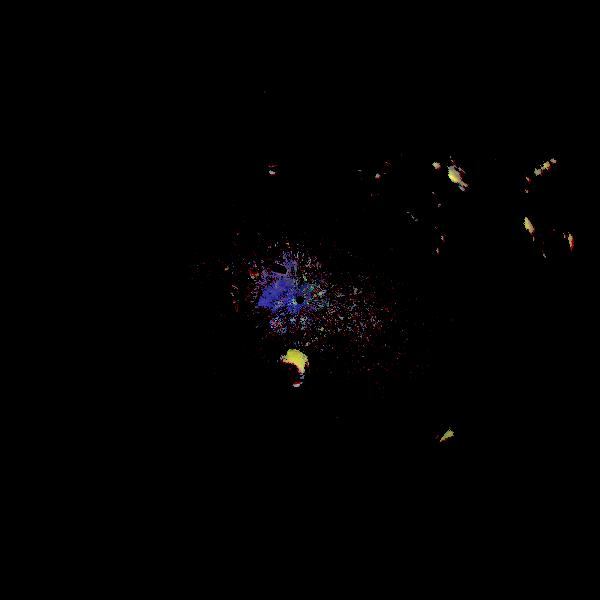roost: (271, 351, 313, 393), (435, 430, 471, 466)
